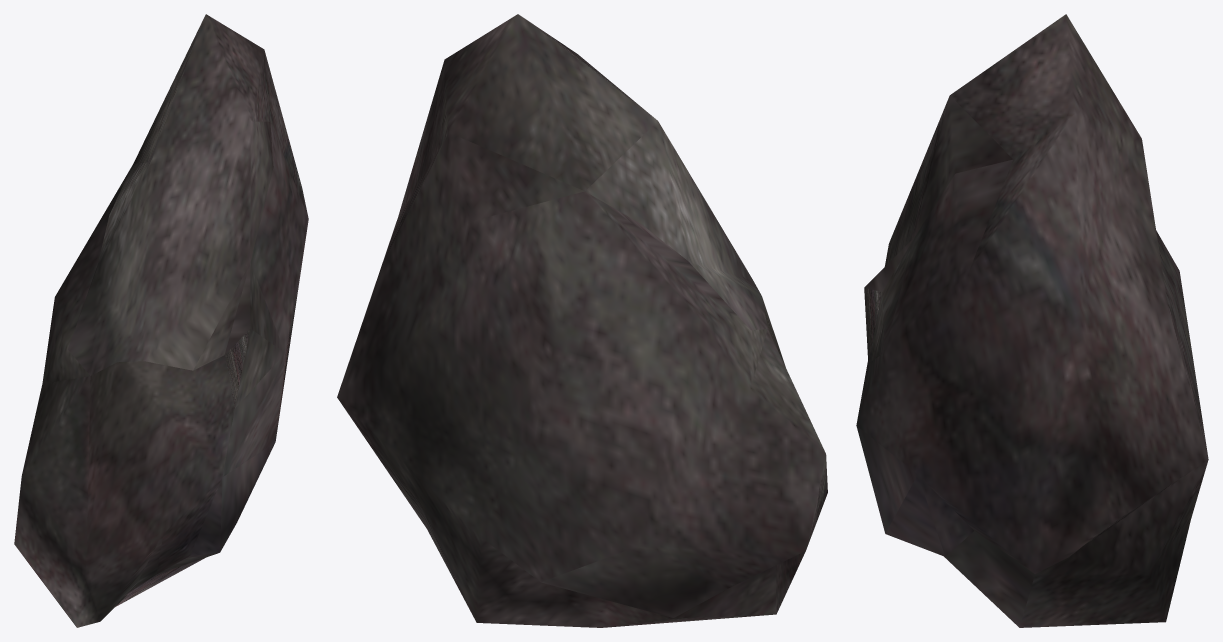
File: flint_item_model.obj
3 views of the same model, side by side, from view 1: azimuth 30°, elevation 25°; view 2: azimuth 150°, elevation 25°; view 3: azimuth 270°, elevation 25° (orthographic). The views are drawn at different scales.
Visible parts, largest first — view 1: Cube.001; view 2: Cube.001; view 3: Cube.001.
Boxes of the visible parts, box(x1,y1,x2,y2) form: Cube.001: box(14, 14, 308, 627); Cube.001: box(337, 14, 827, 627); Cube.001: box(856, 14, 1208, 627).
Bounding box in the file's own units: 0.2266 × 0.3464 × 0.1748.
